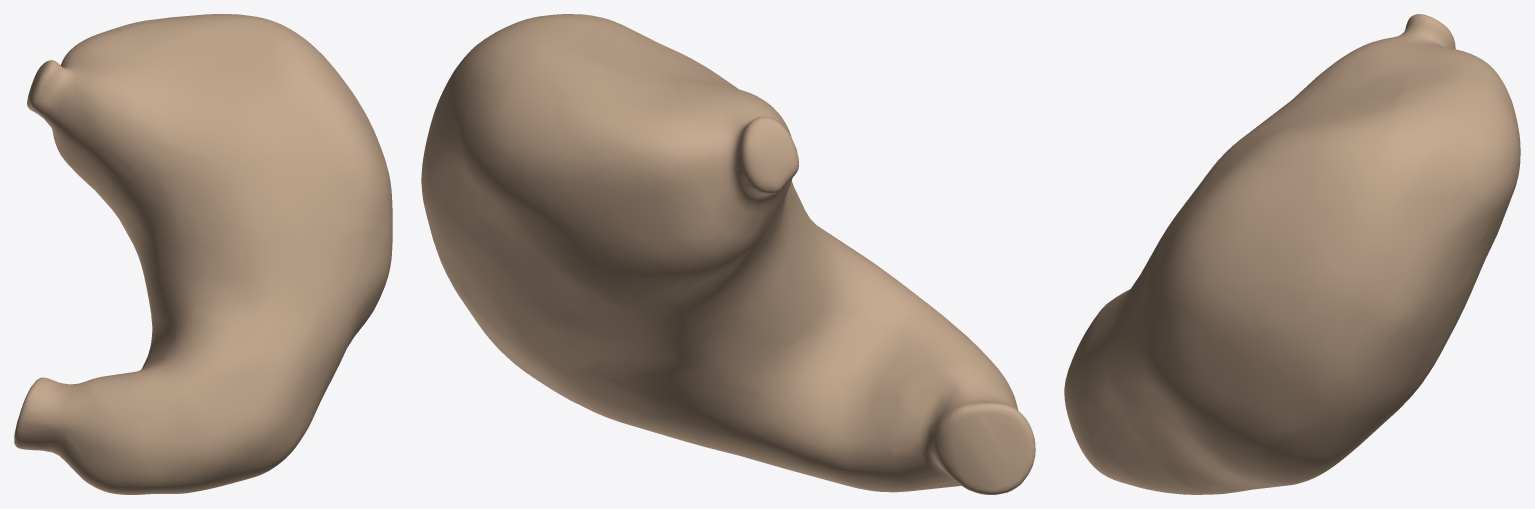
File: stomach.glb
The picture shows the model from 3 angles, left to right: view 1: azimuth 30°, elevation 25°; view 2: azimuth 150°, elevation 25°; view 3: azimuth 270°, elevation 25°; orthographic projection. The views are drawn at different scales.
Visible parts, largest first — view 1: FMA7148.stl; view 2: FMA7148.stl; view 3: FMA7148.stl.
Part boxes in pixels (x1=…): FMA7148.stl: x1=14, y1=14, x2=392, y2=494; FMA7148.stl: x1=421, y1=14, x2=1035, y2=494; FMA7148.stl: x1=1064, y1=14, x2=1520, y2=494.
Bounding box in the file's own units: 2 × 1.7 × 1.63.
